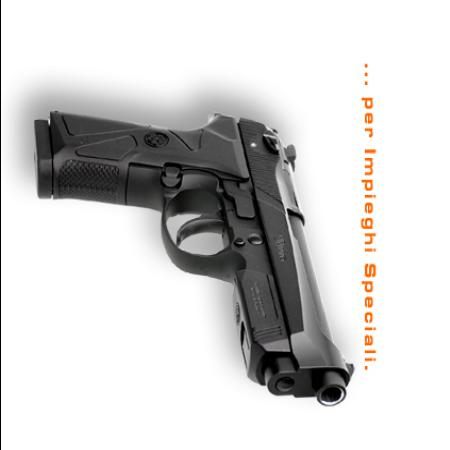Pistol: (33, 107, 355, 407)
